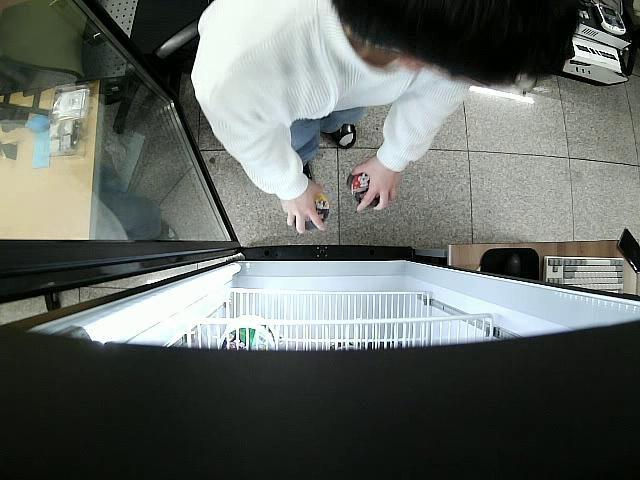08_buldak_S: (290, 190, 331, 229), (347, 172, 384, 206)
